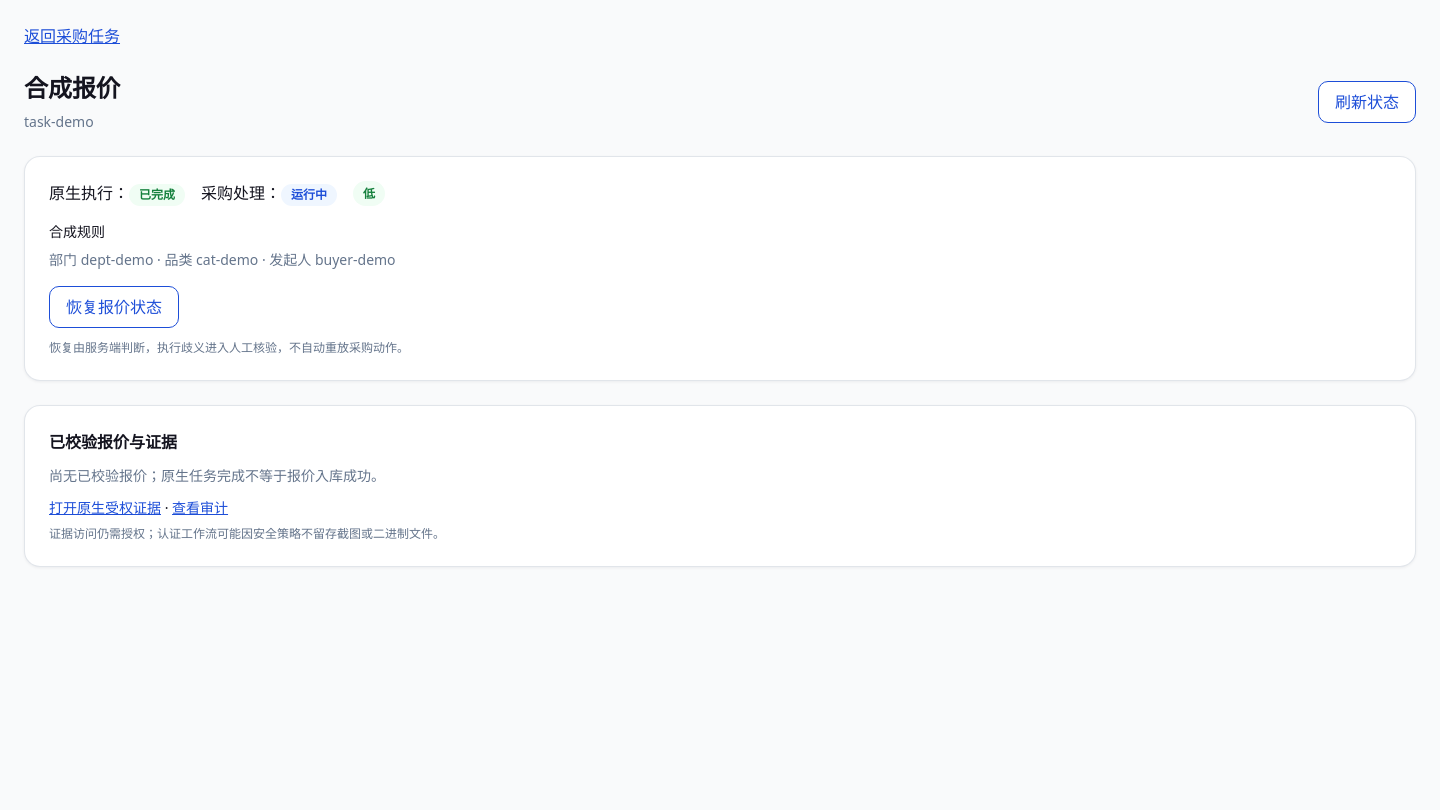
reloads a task and handles version conflict without repeating recovery
Click the button "恢复报价状态" at (114, 307), box x1=49 y1=286 x2=179 y2=328
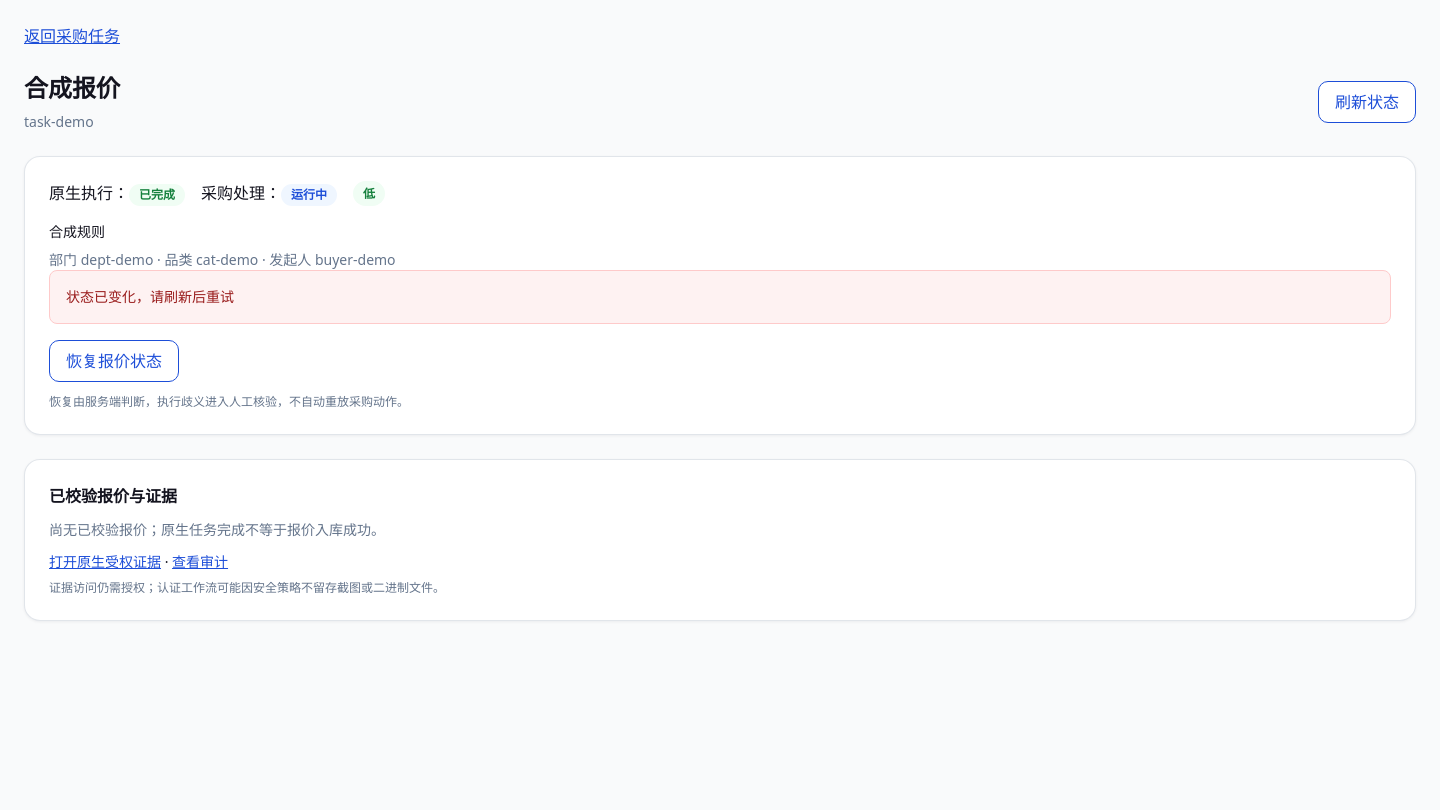
Expected: the text "尚无已校验报价；原生任务完成不等于报价入库成功。" is shown, x1=49 y1=520 x2=385 y2=539
Expected: the text "状态已变化，请刷新后重试" is shown, x1=49 y1=270 x2=1391 y2=324
